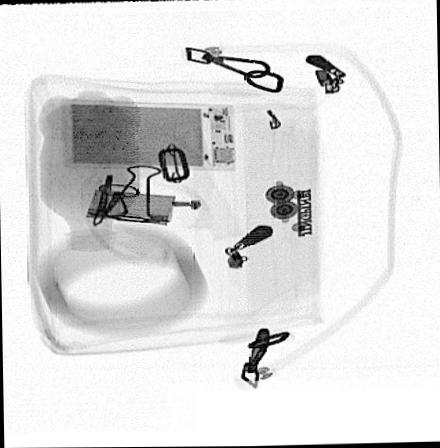Powerbank: (64, 100, 235, 171)
